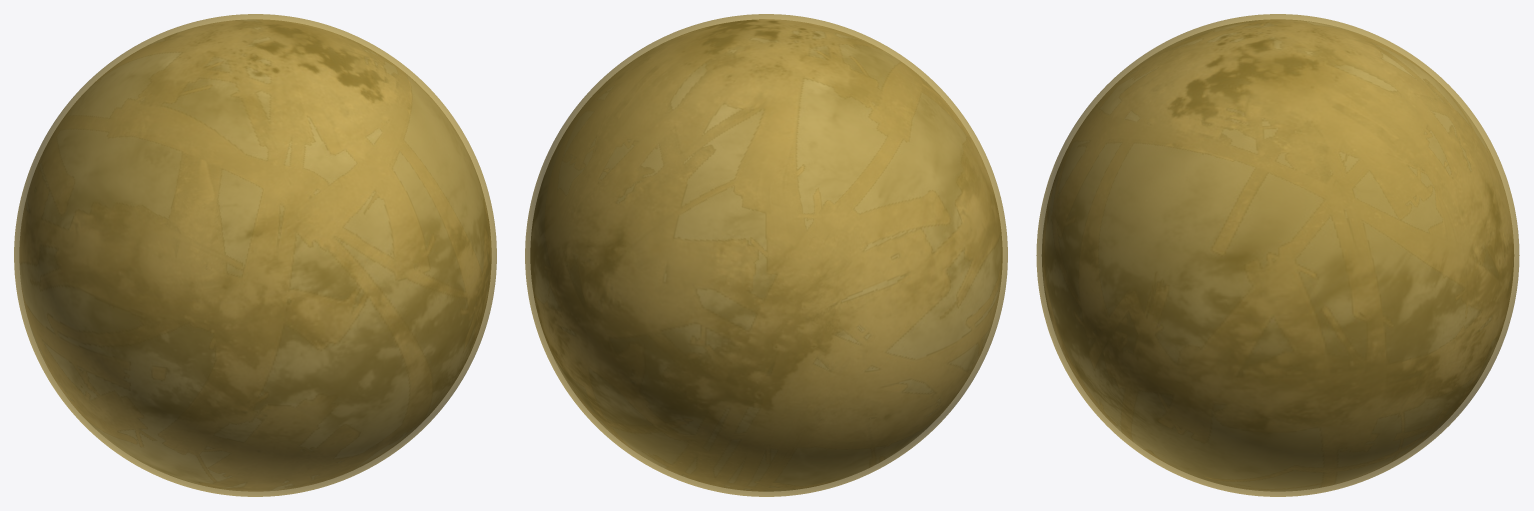
Rendered from titan.glb.
3 renders of one model, left to right at view 1: azimuth 30°, elevation 25°; view 2: azimuth 150°, elevation 25°; view 3: azimuth 270°, elevation 25°, orthographic.
Parts seen in each view (by area): view 1: titan_photochemical_haze, titan_crust; view 2: titan_photochemical_haze, titan_crust; view 3: titan_photochemical_haze, titan_crust.
Part boxes in pixels (left/top/right/bottom): titan_photochemical_haze: left=14, top=14, right=496, bottom=496; titan_crust: left=19, top=19, right=491, bottom=491; titan_photochemical_haze: left=525, top=14, right=1007, bottom=496; titan_crust: left=530, top=19, right=1002, bottom=491; titan_photochemical_haze: left=1036, top=14, right=1519, bottom=496; titan_crust: left=1042, top=19, right=1513, bottom=491.
Bounding box in the file's own units: 2 × 2 × 2.
Materials: 2 (2 with a texture image).
